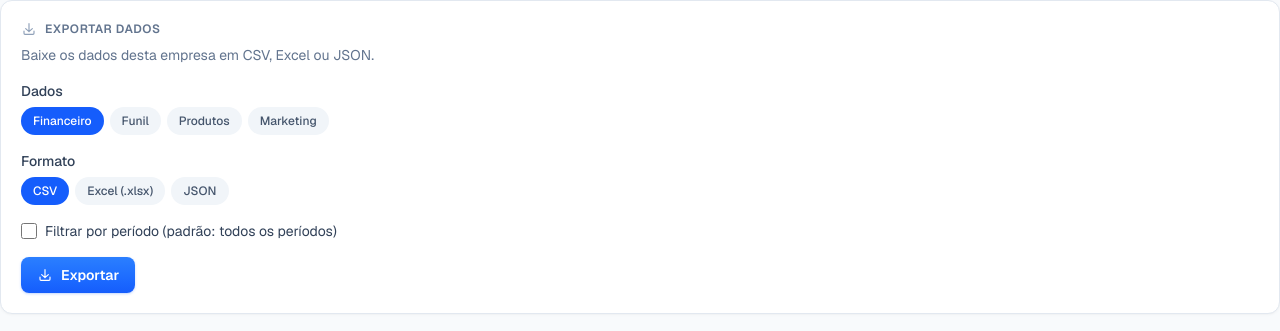
Scenario: ExportPanel › esconde o filtro de período para Produtos (catálogo, não série temporal)
The width and height of the screenshot is (1280, 331).
What coordinates should you click on to do the following:
click the button "Produtos"
I would click on:
 (204, 121)
Its box is [167,107,242,135].
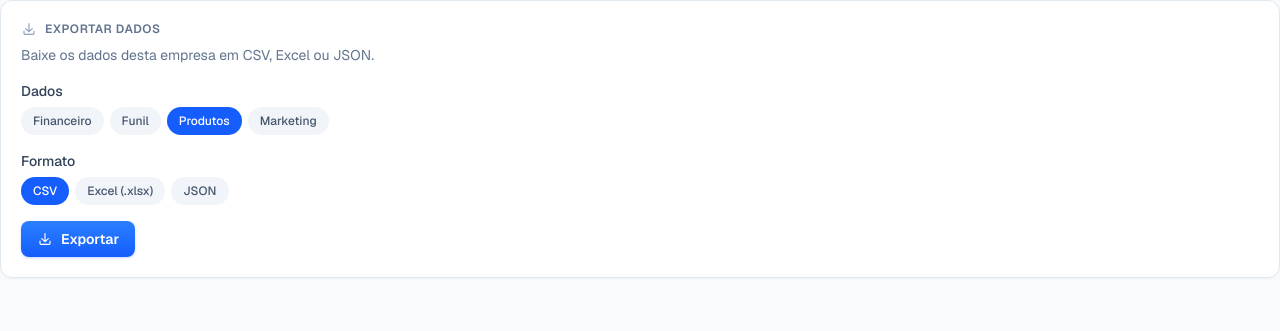
Now the label labelled "Filtrar por período (padrão: todos os períodos)" is gone
